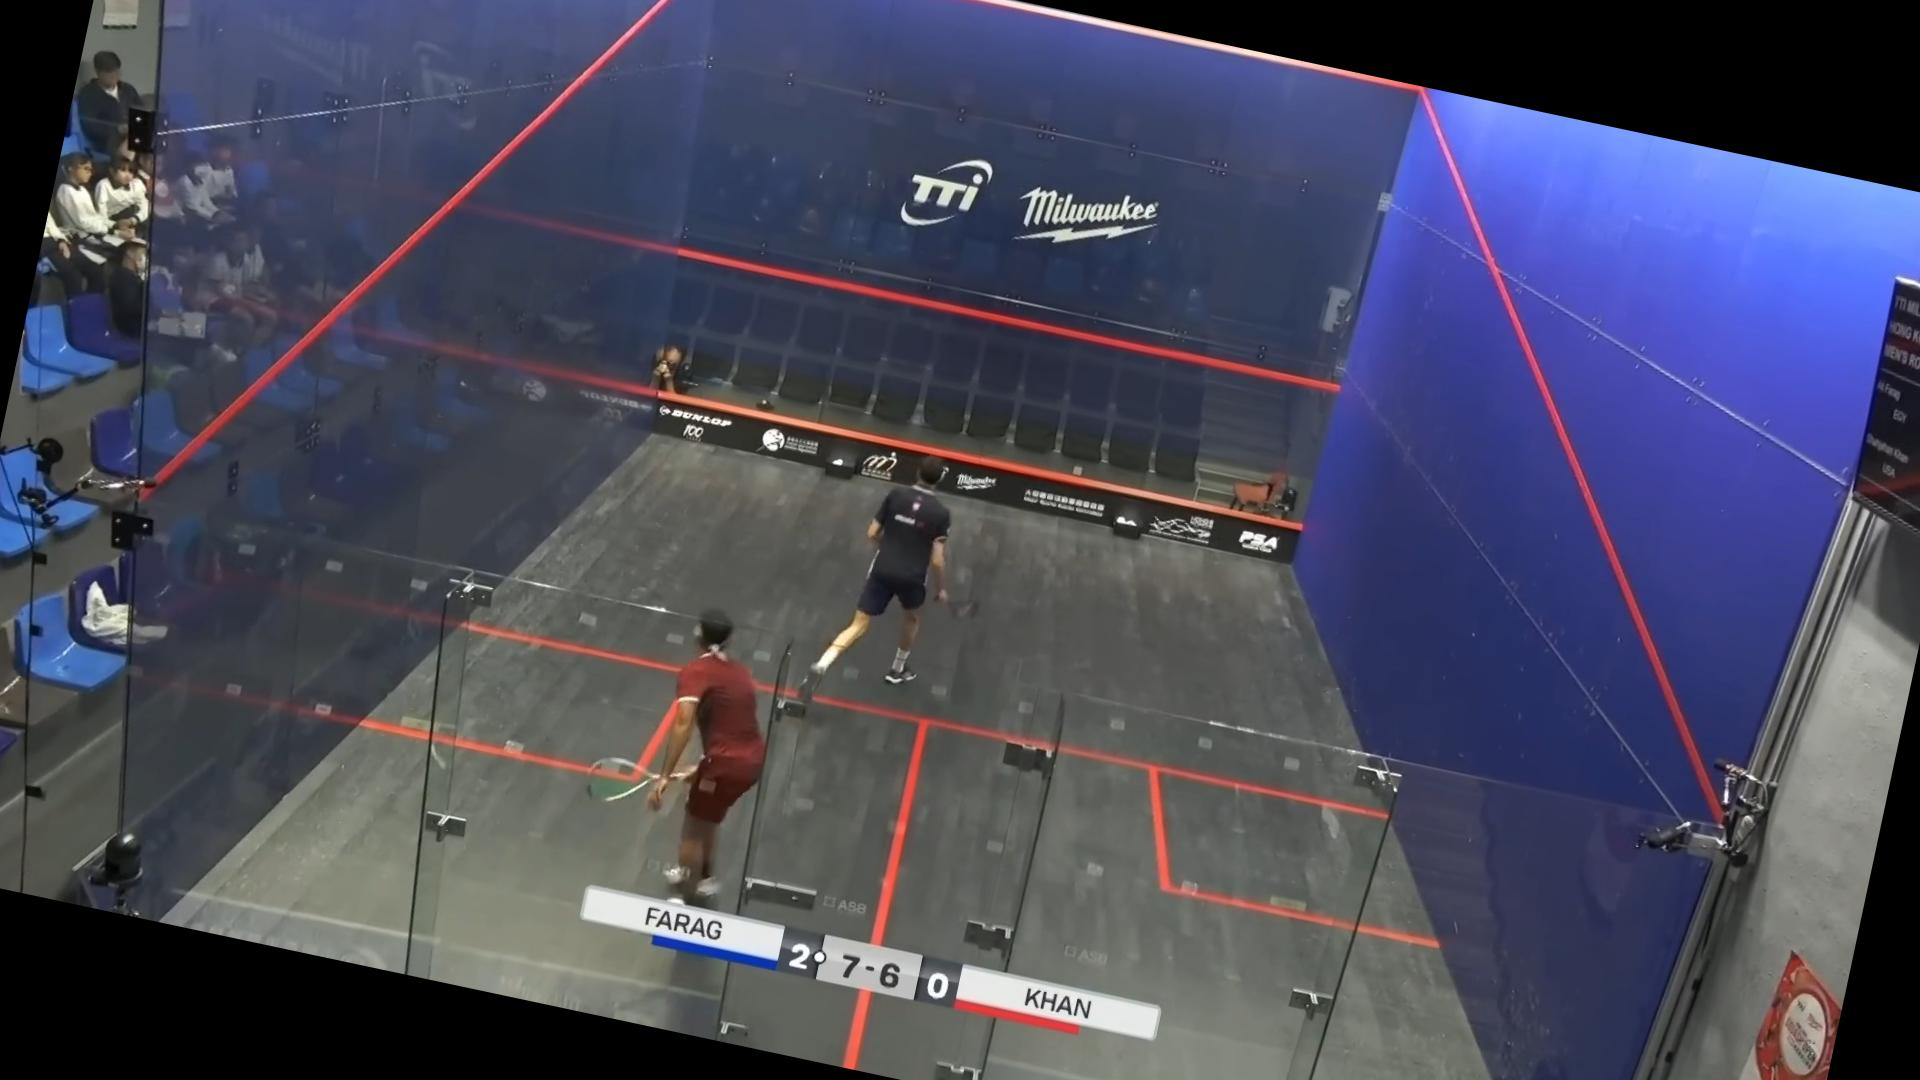Racket: (580, 752, 682, 819)
